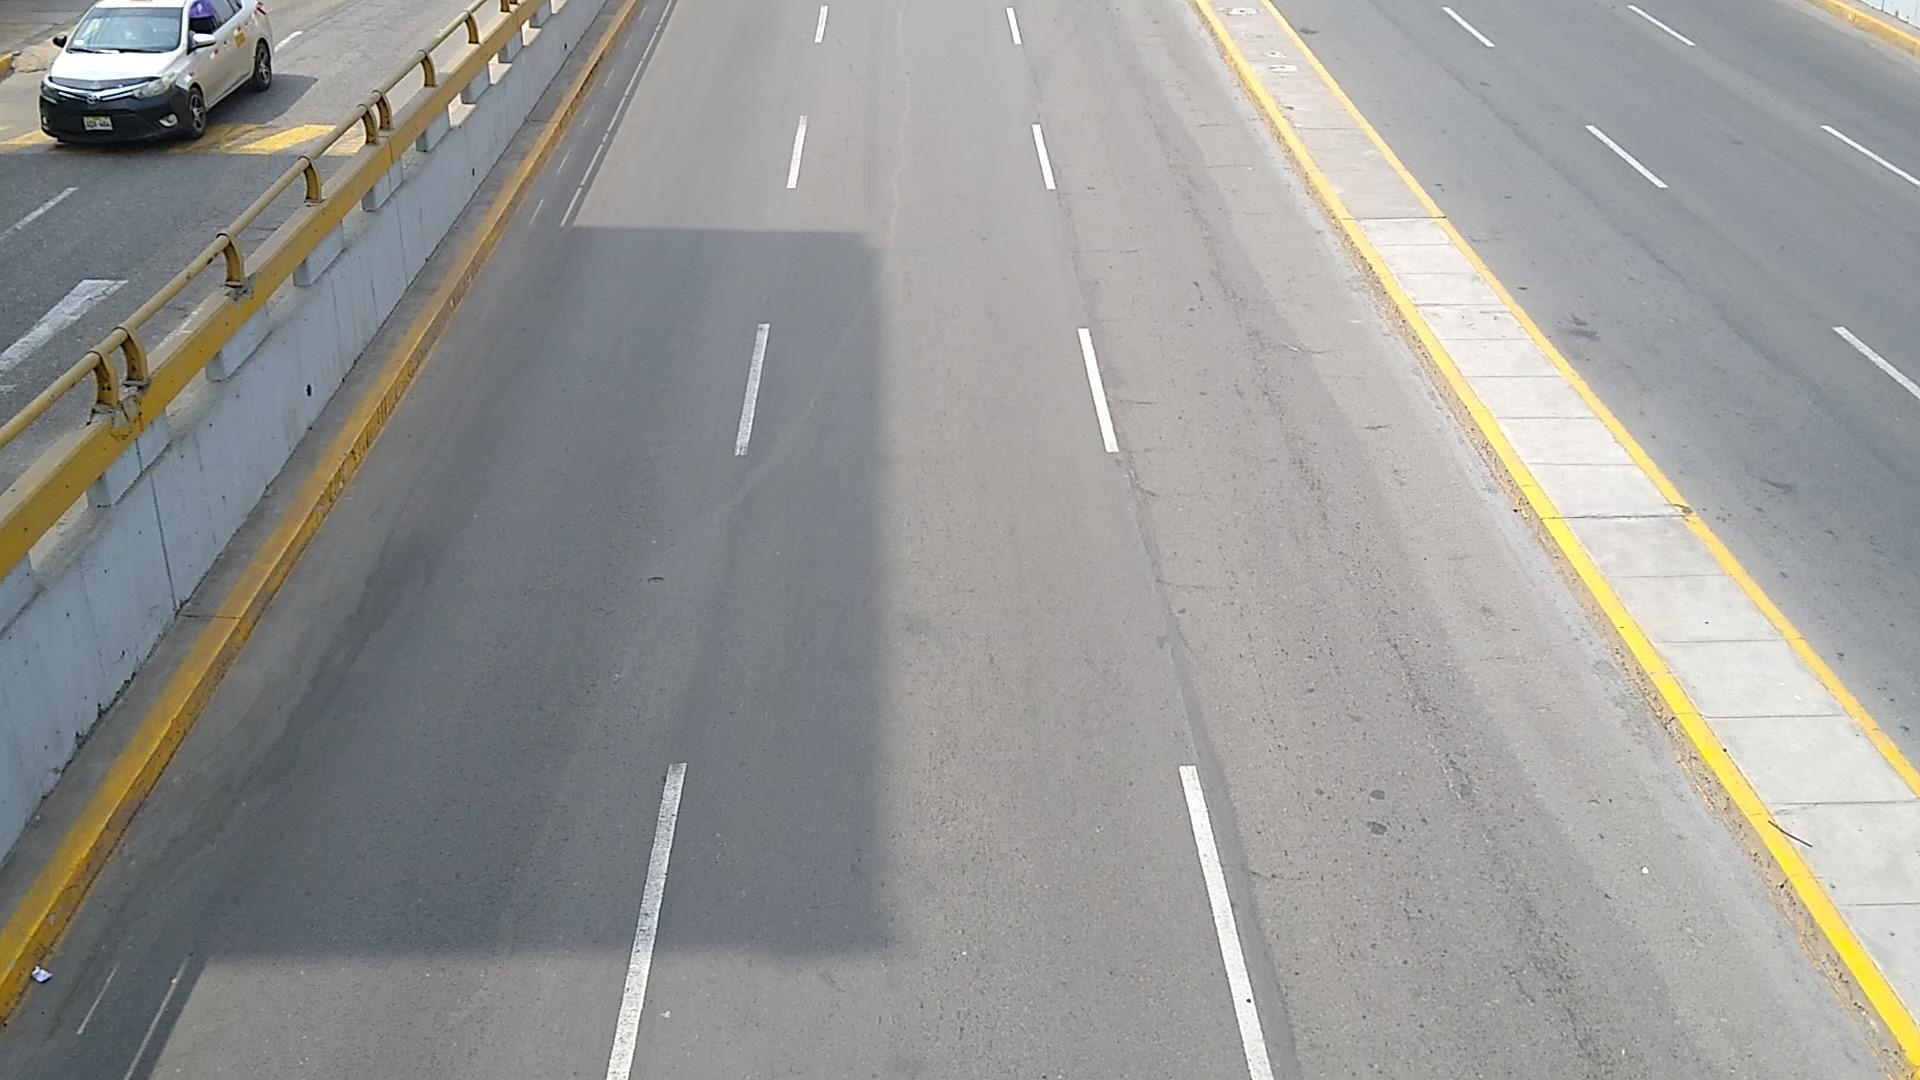car: (37, 0, 274, 142)
